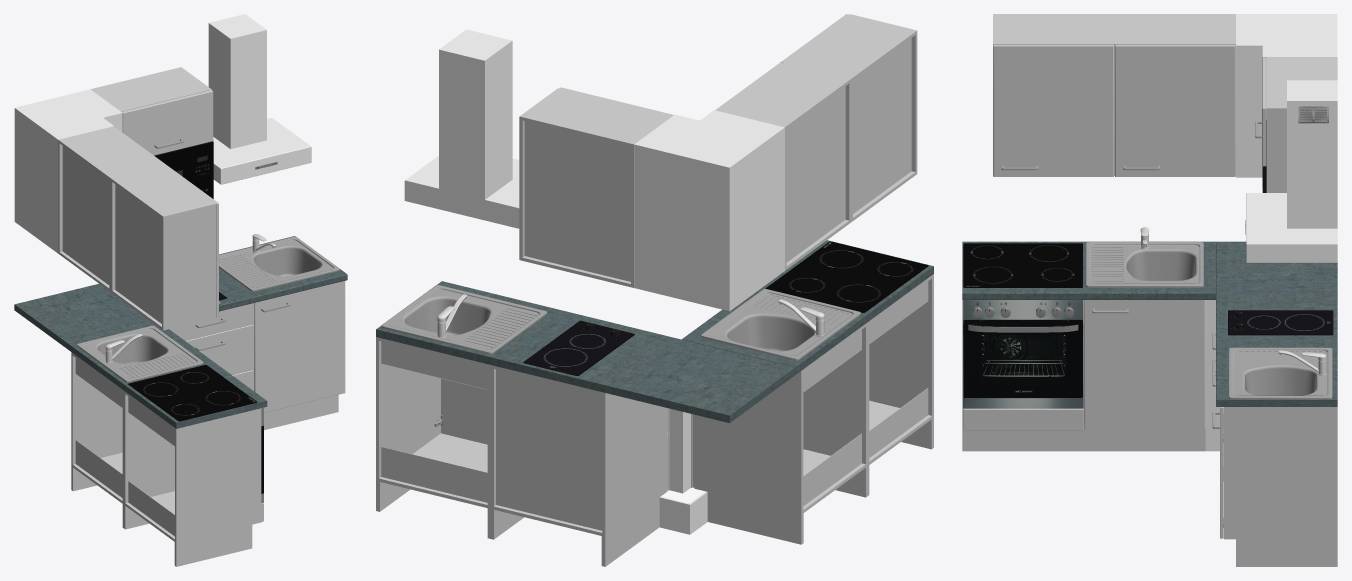
The model's file is kitchen_ios.gltf.
3 renders of one model, left to right at view 1: azimuth 30°, elevation 25°; view 2: azimuth 150°, elevation 25°; view 3: azimuth 270°, elevation 25°, orthographic. The views are drawn at different scales.
Visible parts, largest first — view 1: body.HUB60.001_0, body_W60_02.001, Mesh_0.001, front_Tür_600x720002, body_W60_02, corner_up, worktop_Arbeitsplatte, body.SPUD60_0.001, front_Tür_60x318, Kochfeld_Glaskeramik_Kombi, Spüle_einzeln_Edelstahl, Spüle_einzeln_Edelstahl.001 (+9 smaller); view 2: corner_up, body.W30_02.016_0, body_WM60_02, body.SPUD60_0.001, worktop_Arbeitsplatte, Mesh_0.001, body_W60_02.001, body_W60_02, body.SPUD60_0, body.HUB60.001_0, Kochfeld_Glaskeramik_Kombi, Spüle_einzeln_Edelstahl (+8 smaller); view 3: front_Tür_60x717, front_Tür_60x717.001, front_Tür_600x720002.001, body.SPUD60_0, Cube.002_0, Mesh_0.001, worktop_Arbeitsplatte, corner_up, Kochfeld_Glaskeramik_Kombi, Spüle_einzeln_Edelstahl.001, Spüle_einzeln_Edelstahl, worktop_Arbeitsplatte.001 (+13 smaller).
Part boxes in pixels (x1=…): body.HUB60.001_0: x1=124, y1=391, x2=261, y2=542; body_W60_02.001: x1=110, y1=165, x2=216, y2=330; Mesh_0.001: x1=208, y1=14, x2=311, y2=184; front_Tür_600x720002: x1=254, y1=281, x2=345, y2=412; body_W60_02: x1=58, y1=127, x2=163, y2=291; corner_up: x1=14, y1=89, x2=122, y2=253; worktop_Arbeitsplatte: x1=14, y1=236, x2=347, y2=348; body.SPUD60_0.001: x1=71, y1=352, x2=123, y2=504; front_Tür_60x318: x1=122, y1=90, x2=213, y2=155; Kochfeld_Glaskeramik_Kombi: x1=128, y1=365, x2=257, y2=421; Spüle_einzeln_Edelstahl: x1=219, y1=236, x2=339, y2=291; Spüle_einzeln_Edelstahl.001: x1=77, y1=325, x2=203, y2=382; corner_up: x1=634, y1=110, x2=784, y2=311; body.W30_02.016_0: x1=490, y1=365, x2=667, y2=536; body_WM60_02: x1=519, y1=88, x2=672, y2=287; body.SPUD60_0.001: x1=694, y1=322, x2=867, y2=514; worktop_Arbeitsplatte: x1=376, y1=281, x2=795, y2=423; Mesh_0.001: x1=404, y1=29, x2=519, y2=228; body_W60_02.001: x1=784, y1=14, x2=917, y2=222; body_W60_02: x1=718, y1=62, x2=850, y2=270; body.SPUD60_0: x1=376, y1=337, x2=490, y2=508; body.HUB60.001_0: x1=867, y1=274, x2=933, y2=465; Kochfeld_Glaskeramik_Kombi: x1=765, y1=241, x2=928, y2=312; Spüle_einzeln_Edelstahl: x1=381, y1=285, x2=546, y2=354; front_Tür_60x717: x1=1115, y1=44, x2=1235, y2=176; front_Tür_60x717.001: x1=993, y1=44, x2=1113, y2=176; front_Tür_600x720002.001: x1=1084, y1=300, x2=1205, y2=429; body.SPUD60_0: x1=1224, y1=407, x2=1337, y2=539; Cube.002_0: x1=963, y1=300, x2=1083, y2=408; Mesh_0.001: x1=1246, y1=80, x2=1337, y2=262; worktop_Arbeitsplatte: x1=1216, y1=241, x2=1337, y2=406; corner_up: x1=1236, y1=14, x2=1337, y2=188; Kochfeld_Glaskeramik_Kombi: x1=963, y1=243, x2=1082, y2=287; Spüle_einzeln_Edelstahl.001: x1=1086, y1=242, x2=1203, y2=287; Spüle_einzeln_Edelstahl: x1=1229, y1=347, x2=1332, y2=399; worktop_Arbeitsplatte.001: x1=962, y1=241, x2=1215, y2=299.
Size of the model in its own units: 1.85 by 2.38 by 1.85.
Materials: 33 (9 with a texture image).
